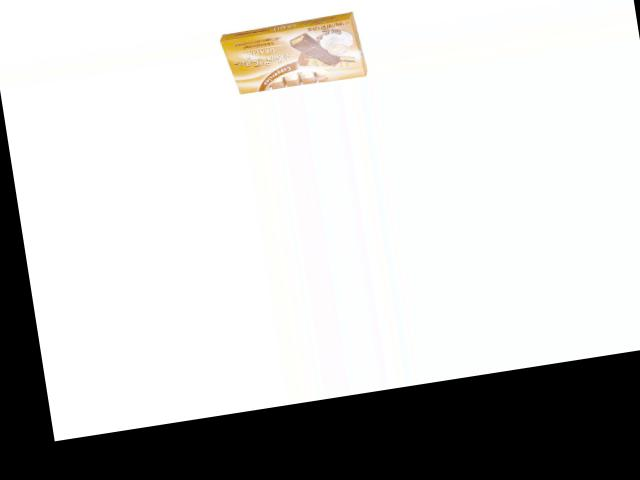chocolate: (215, 10, 368, 99)
